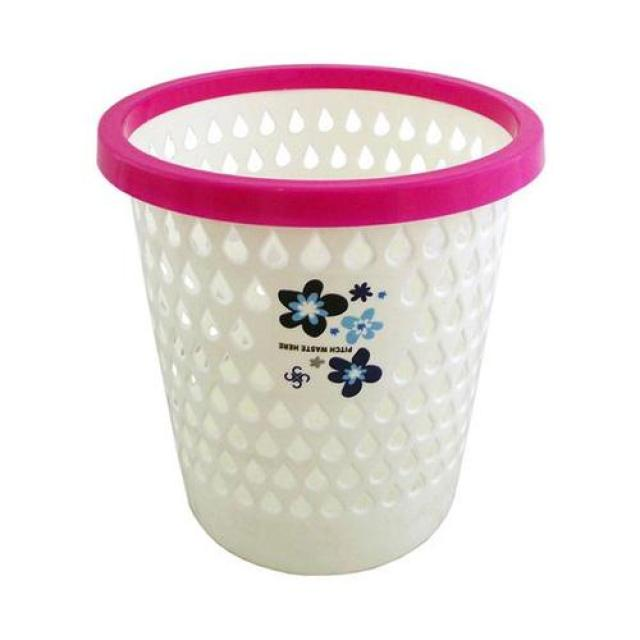dustbin: (90, 58, 550, 586)
